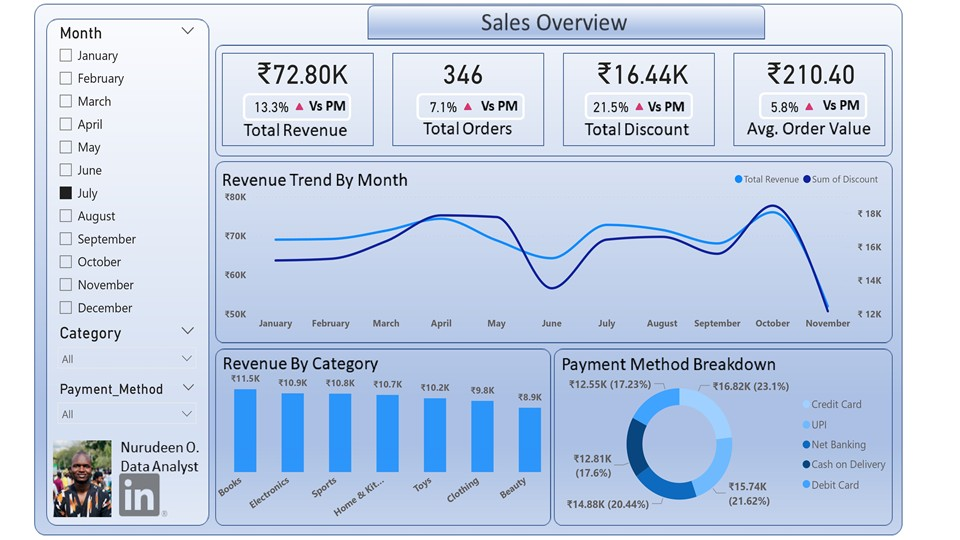

Layout of this report page (visuals, bound fields, positions):
{"tool":"powerbi","page":{"name":"Page 1","canvas":[1280,720],"ordinal":0},"visuals":[{"type":"card","fields":{"Values":["Measures Table.Total Revenue"]},"box":[331,73,174,75],"z":0},{"type":"card","fields":{"Values":["Measures Table.Total Orders"]},"box":[545,73,174,75],"z":1000},{"type":"card","fields":{"Values":["Measures Table.Total Discount"]},"box":[784,73,174,75],"z":2000},{"type":"card","fields":{"Values":["Measures Table.Average Order Value"]},"box":[1008,73,174,75],"z":3000},{"type":"lineChart","fields":{"Y":["Measures Table.Total Revenue"],"Category":["ecommerce_dataset.Purchase_Date.Variation.Date Hierarchy.Month"],"Y2":["Sum(ecommerce_dataset.Discount)"]},"box":[309,226,885,220],"z":4000},{"type":"columnChart","fields":{"Category":["ecommerce_dataset.Category"],"Y":["Measures Table.Total Revenue"]},"box":[297,472,471,214],"z":5000},{"type":"donutChart","fields":{"Y":["Measures Table.Total Revenue"],"Category":["ecommerce_dataset.Payment_Method"]},"box":[752,483,457,195],"z":6000},{"type":"slicer","fields":{"Values":["ecommerce_dataset.Purchase_Date.Variation.Date Hierarchy.Month"]},"box":[82,44,205,385],"z":7000},{"type":"slicer","fields":{"Values":["ecommerce_dataset.Category"]},"box":[82,423,205,78],"z":8000},{"type":"slicer","fields":{"Values":["ecommerce_dataset.Payment_Method"]},"box":[82,495,205,76],"z":9000},{"type":"card","fields":{"Values":["Measures Table.% MOM Revenue"]},"box":[341,123,99,64],"z":9001},{"type":"card","fields":{"Values":["Measures Table.% MOM Discount"]},"box":[793,123,99,64],"z":9002},{"type":"card","fields":{"Values":["Measures Table.% MOM Orders"]},"box":[570,123,99,64],"z":9003},{"type":"card","fields":{"Values":["Measures Table.% MOM Avg Order value"]},"box":[1024,123,99,64],"z":9004}]}

Visuals, with their boxes in screenshot pixels (x1, y1, x2, y2), scaled from the page's 1280x720 canvas onto the 960x540 screenshot:
card - Measures Table.Total Revenue: crop(248, 55, 379, 111)
card - Measures Table.Total Orders: crop(409, 55, 539, 111)
card - Measures Table.Total Discount: crop(588, 55, 718, 111)
card - Measures Table.Average Order Value: crop(756, 55, 886, 111)
lineChart - Measures Table.Total Revenue x ecommerce_dataset.Purchase_Date.Variation.Date Hierarchy.Month: crop(232, 170, 896, 334)
columnChart - ecommerce_dataset.Category x Measures Table.Total Revenue: crop(223, 354, 576, 514)
donutChart - Measures Table.Total Revenue x ecommerce_dataset.Payment_Method: crop(564, 362, 907, 508)
slicer - ecommerce_dataset.Purchase_Date.Variation.Date Hierarchy.Month: crop(62, 33, 215, 322)
slicer - ecommerce_dataset.Category: crop(62, 317, 215, 376)
slicer - ecommerce_dataset.Payment_Method: crop(62, 371, 215, 428)
card - Measures Table.% MOM Revenue: crop(256, 92, 330, 140)
card - Measures Table.% MOM Discount: crop(595, 92, 669, 140)
card - Measures Table.% MOM Orders: crop(428, 92, 502, 140)
card - Measures Table.% MOM Avg Order value: crop(768, 92, 842, 140)
